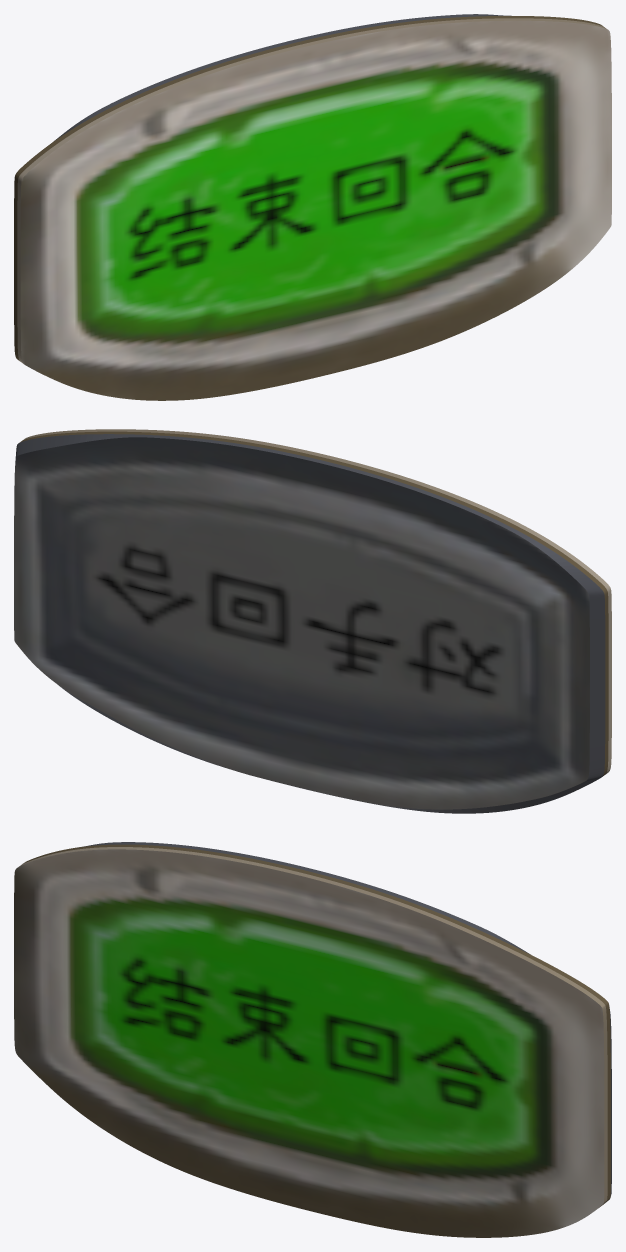
The model's file is TurnEndButton.glb.
The picture shows the model from 3 angles, top to bottom: view 1: azimuth 30°, elevation 25°; view 2: azimuth 150°, elevation 25°; view 3: azimuth 330°, elevation 25°; orthographic projection.
Visible parts, largest first — view 1: TurnEndButton; view 2: TurnEndButton; view 3: TurnEndButton.
Part boxes in pixels (x1,y1,x2,y2): TurnEndButton: (14, 14, 611, 400); TurnEndButton: (14, 429, 611, 813); TurnEndButton: (14, 842, 611, 1237).
Bounding box in the file's own units: 3.9 × 2.1 × 0.1142.
Materials: 1 (1 with a texture image).
